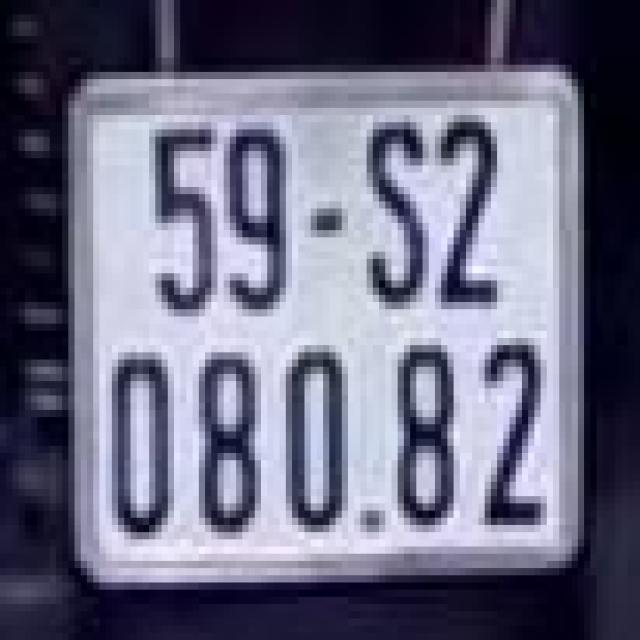0: (106, 345, 186, 554), (270, 331, 351, 532)
2: (475, 324, 556, 539), (432, 108, 506, 316)
5: (136, 111, 218, 320)
8: (388, 334, 463, 536), (193, 338, 267, 539)
9: (218, 108, 292, 331)
S: (357, 108, 432, 316)
